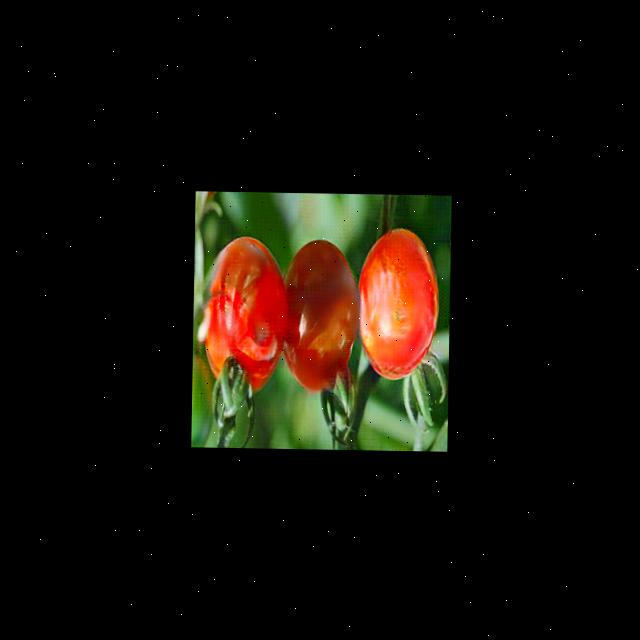tomato: (201, 230, 289, 414), (355, 228, 440, 378)
